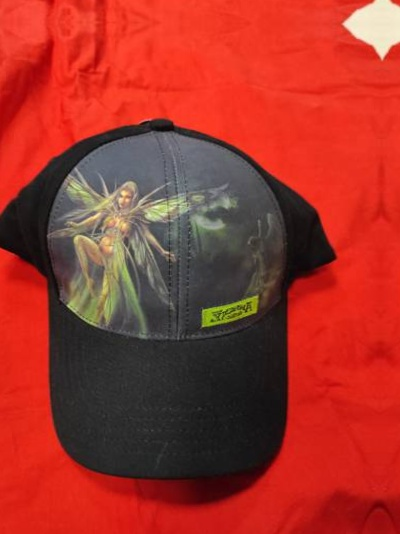Hat: (0, 93, 360, 492)
